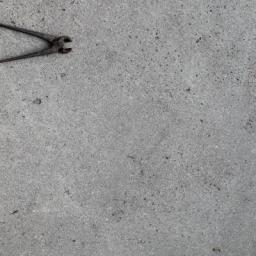FOD: (1, 22, 74, 72)
